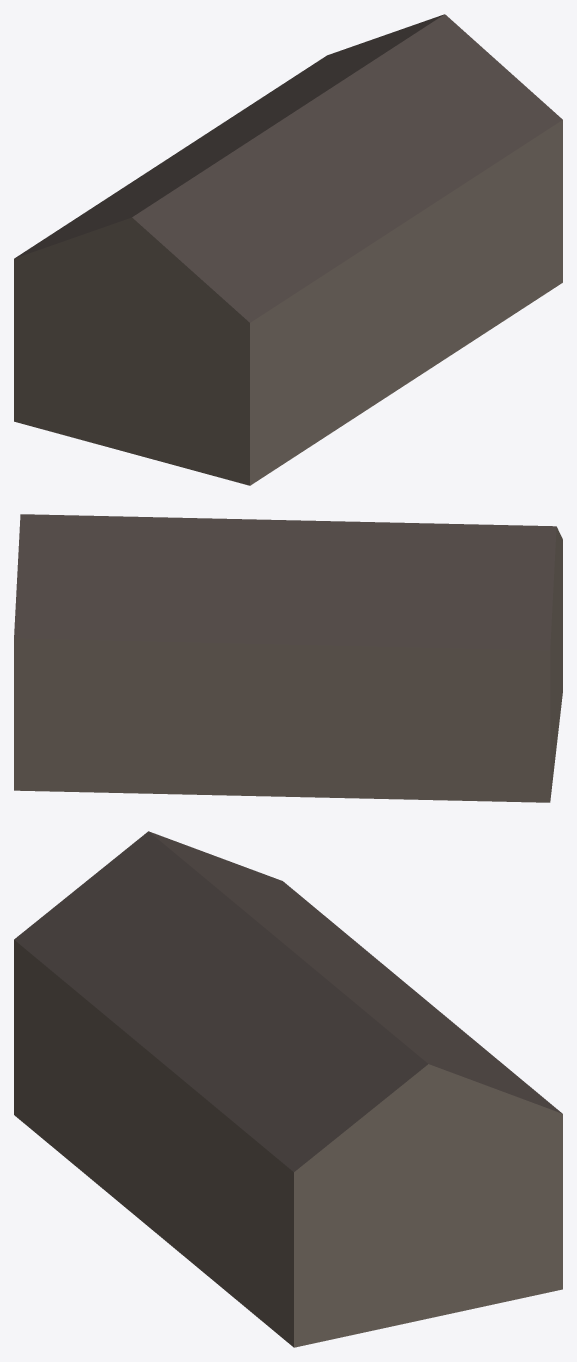
3 renders of one model, top to bottom at view 1: azimuth 30°, elevation 25°; view 2: azimuth 150°, elevation 25°; view 3: azimuth 270°, elevation 25°, orthographic. The views are drawn at different scales.
Visible parts, largest first — view 1: HP-w369317495; view 2: HP-w369317495; view 3: HP-w369317495.
Part boxes in pixels (x1,y1,x2,y2): HP-w369317495: (14, 14, 562, 485); HP-w369317495: (14, 514, 562, 802); HP-w369317495: (14, 831, 562, 1347).
Size of the model in its own units: 21.36 by 8.71 by 17.02.
